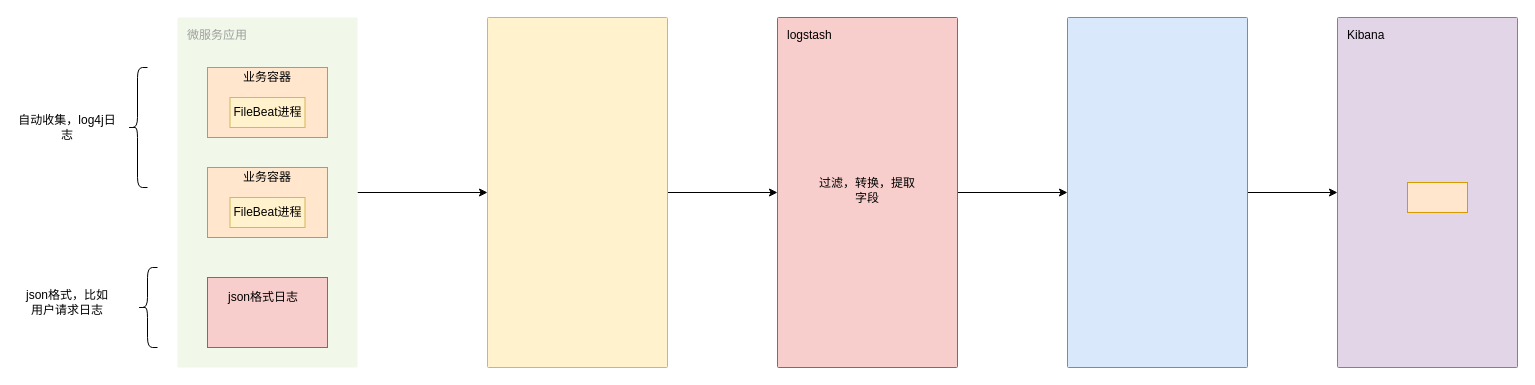
The diagram is 1535 pixels wide and 385 high, and some of its shapes have lost their labels. Each missing label, with the centre of its shape:
"ES" belongs at point 1157,192.
"Kafka" belongs at point 577,192.
"可视化与告警" belongs at point 1437,197.
